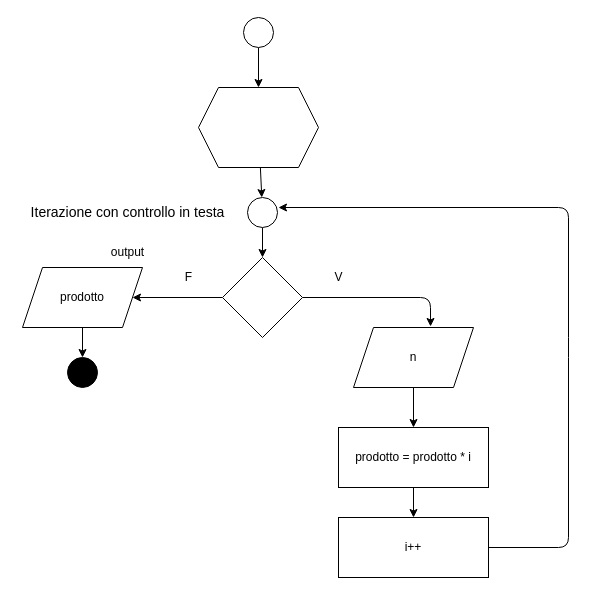
Some shapes in this 594 by 595 pixel diagram are drawn without their labels. Each missing label, with the centre of its shape:
i <= 3: (262,297)
int n, prodotto = 1, i = 1: (258,127)
